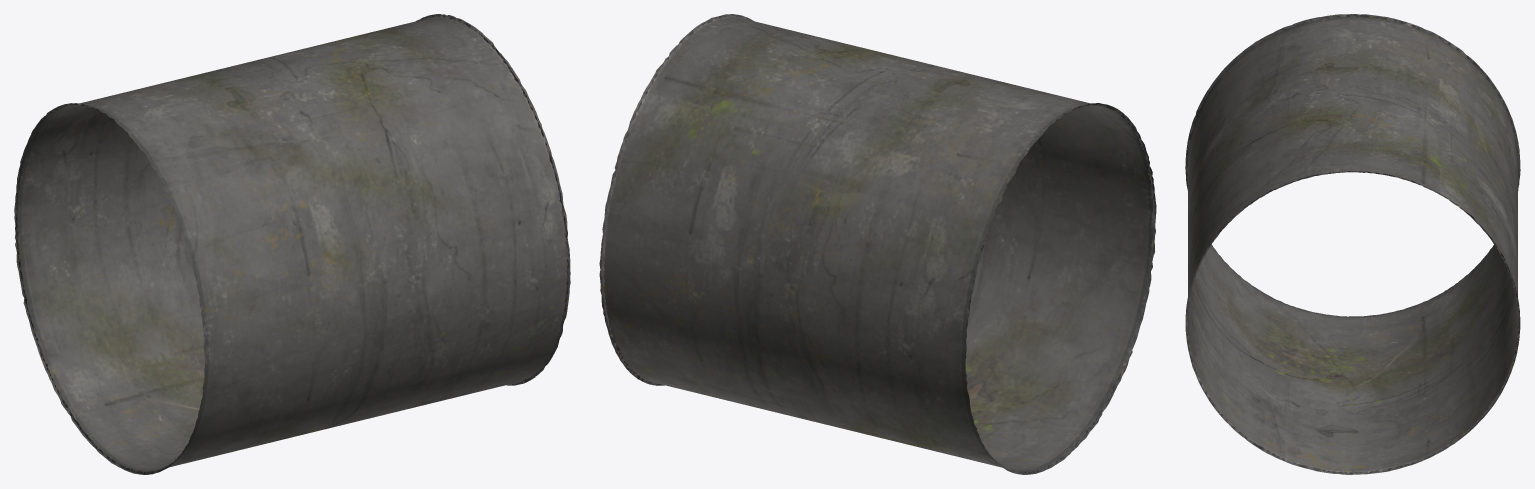
File: SM_Sewer_Tube_01a.fbx
The picture shows the model from 3 angles, left to right: view 1: azimuth 30°, elevation 25°; view 2: azimuth 150°, elevation 25°; view 3: azimuth 270°, elevation 25°; orthographic projection. The views are drawn at different scales.
Visible parts, largest first — view 1: SM_Sewer_Tube_01a_LOD0; view 2: SM_Sewer_Tube_01a_LOD0; view 3: SM_Sewer_Tube_01a_LOD0.
Part boxes in pixels (x1,y1,x2,y2): SM_Sewer_Tube_01a_LOD0: (14, 14, 570, 474); SM_Sewer_Tube_01a_LOD0: (599, 14, 1156, 474); SM_Sewer_Tube_01a_LOD0: (1185, 14, 1520, 474).
Size of the model in its own units: 200 by 179 by 179.
